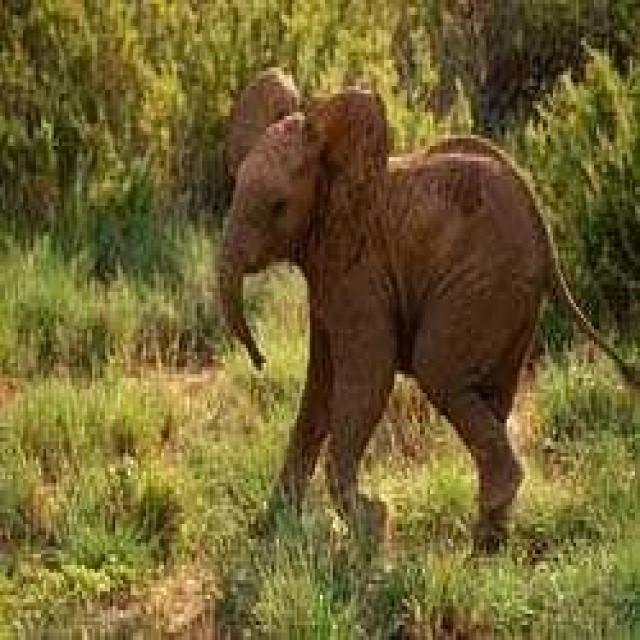Elephant: (212, 64, 638, 558)
